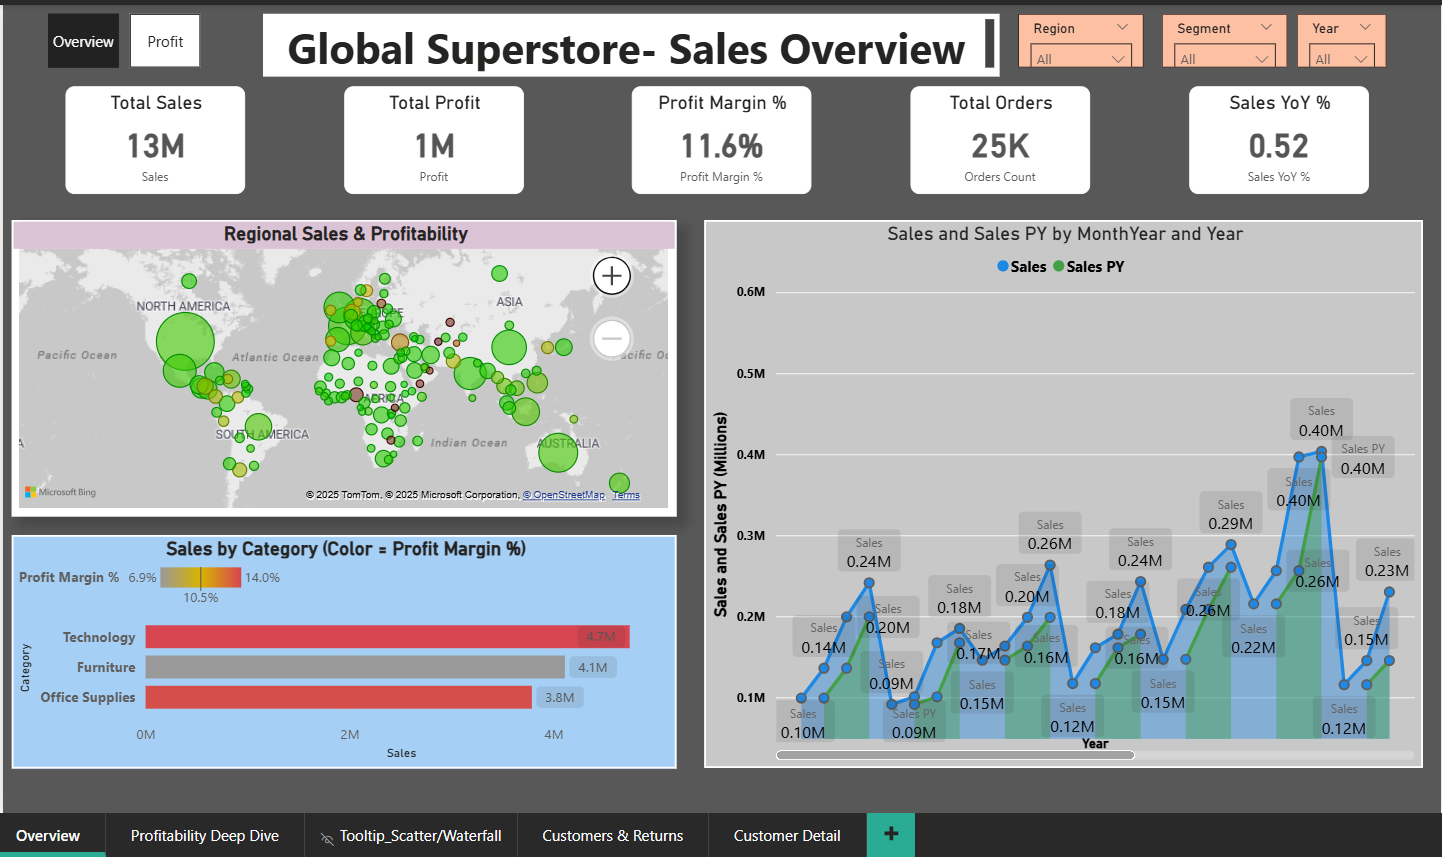

What the dashboard file says about the page in this screenshot:
{"tool":"powerbi","page":{"name":"Overview","canvas":[1280,720],"ordinal":0},"visuals":[{"type":"card","title":"Total Sales","fields":{"Values":["_Measures.Sales"]},"box":[56,72,160,96],"z":0},{"type":"card","title":"Total Profit","fields":{"Values":["_Measures.Profit"]},"box":[304,72,160,96],"z":1000},{"type":"card","title":"Profit Margin %","fields":{"Values":["_Measures.Profit Margin %"]},"box":[560,72,160,96],"z":2000},{"type":"card","title":"Total Orders","fields":{"Values":["_Measures.Orders Count"]},"box":[808,72,160,96],"z":3000},{"type":"card","title":"Sales YoY %","fields":{"Values":["_Measures.Sales YoY %"]},"box":[1056,72,160,96],"z":4000},{"type":"lineChart","fields":{"Category":["Date.MonthYear","Date.Year"],"Y":["_Measures.Sales","_Measures.Sales PY"]},"box":[624,192,640,488],"z":5000},{"type":"map","title":"Regional Sales & Profitability","fields":{"Category":["Orders_Clean.Country"],"Size":["_Measures.Sales"]},"box":[8,192,592,264],"z":6000},{"type":"clusteredBarChart","title":"Sales by Category (Color = Profit Margin %)","fields":{"Y":["_Measures.Sales"],"Category":["Orders_Clean.Category"]},"box":[8,472,592,208],"z":7000},{"type":"slicer","title":"Segment","fields":{"Values":["Orders_Clean.Segment"]},"box":[1032,8,112,48],"z":8000},{"type":"slicer","fields":{"Values":["Orders_Clean.Region"]},"box":[904,8,112,48],"z":9000},{"type":"slicer","title":"Year","fields":{"Values":["Date.Year"]},"box":[1152,8,80,48],"z":10000},{"type":"bookmarkNavigator","box":[40,8,136,48],"z":11000},{"type":"textbox","box":[232,8,656,56],"z":12000}]}

Visuals, with their boxes on the page's 1280x720 design canvas (x1, y1, x2, y2). These are canvas units, not pixel positions in the 1442x857 screenshot, which may show the page scaled, cropped or inside an application window:
"Total Sales" card: box=[56, 72, 216, 168]
"Total Profit" card: box=[304, 72, 464, 168]
"Profit Margin %" card: box=[560, 72, 720, 168]
"Total Orders" card: box=[808, 72, 968, 168]
"Sales YoY %" card: box=[1056, 72, 1216, 168]
lineChart - Date.MonthYear x Date.Year: box=[624, 192, 1264, 680]
"Regional Sales & Profitability" map: box=[8, 192, 600, 456]
"Sales by Category (Color = Profit Margin %)" clusteredBarChart: box=[8, 472, 600, 680]
"Segment" slicer: box=[1032, 8, 1144, 56]
slicer - Orders_Clean.Region: box=[904, 8, 1016, 56]
"Year" slicer: box=[1152, 8, 1232, 56]
bookmarkNavigator: box=[40, 8, 176, 56]
textbox: box=[232, 8, 888, 64]
